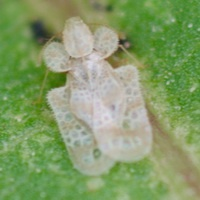insect: (43, 17, 151, 174)
